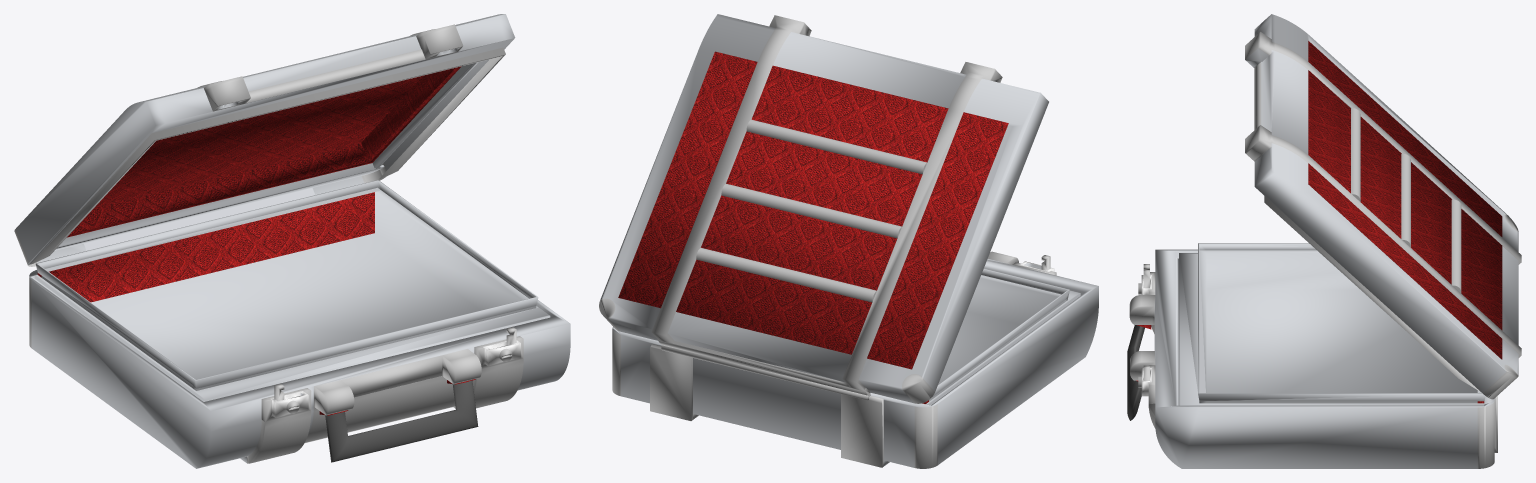
Rendered from suitcase_money.fbx.
The picture shows the model from 3 angles, left to right: view 1: azimuth 30°, elevation 25°; view 2: azimuth 150°, elevation 25°; view 3: azimuth 270°, elevation 25°; orthographic projection. The views are drawn at different scales.
Visible parts, largest first — view 1: money_suitcase_interior, money_suitcase, money_suitcase_handle; view 2: money_suitcase, money_suitcase_interior; view 3: money_suitcase, money_suitcase_interior, money_suitcase_handle.
Part boxes in pixels (box(x1,y1,x2,y2)): money_suitcase_interior: box(35, 62, 538, 390); money_suitcase: box(14, 14, 570, 468); money_suitcase_handle: box(319, 379, 478, 462); money_suitcase: box(599, 14, 1098, 468); money_suitcase_interior: box(618, 51, 1069, 403); money_suitcase: box(1129, 14, 1521, 468); money_suitcase_interior: box(1198, 41, 1502, 403); money_suitcase_handle: box(1127, 325, 1151, 420).
Bounding box in the file's own units: 1.78 × 1.63 × 1.88.
